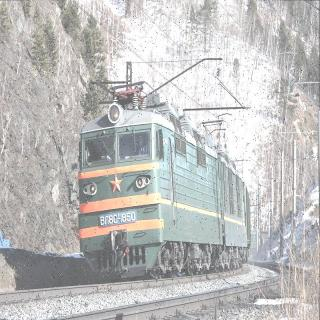poezd: (81, 108, 247, 271)
